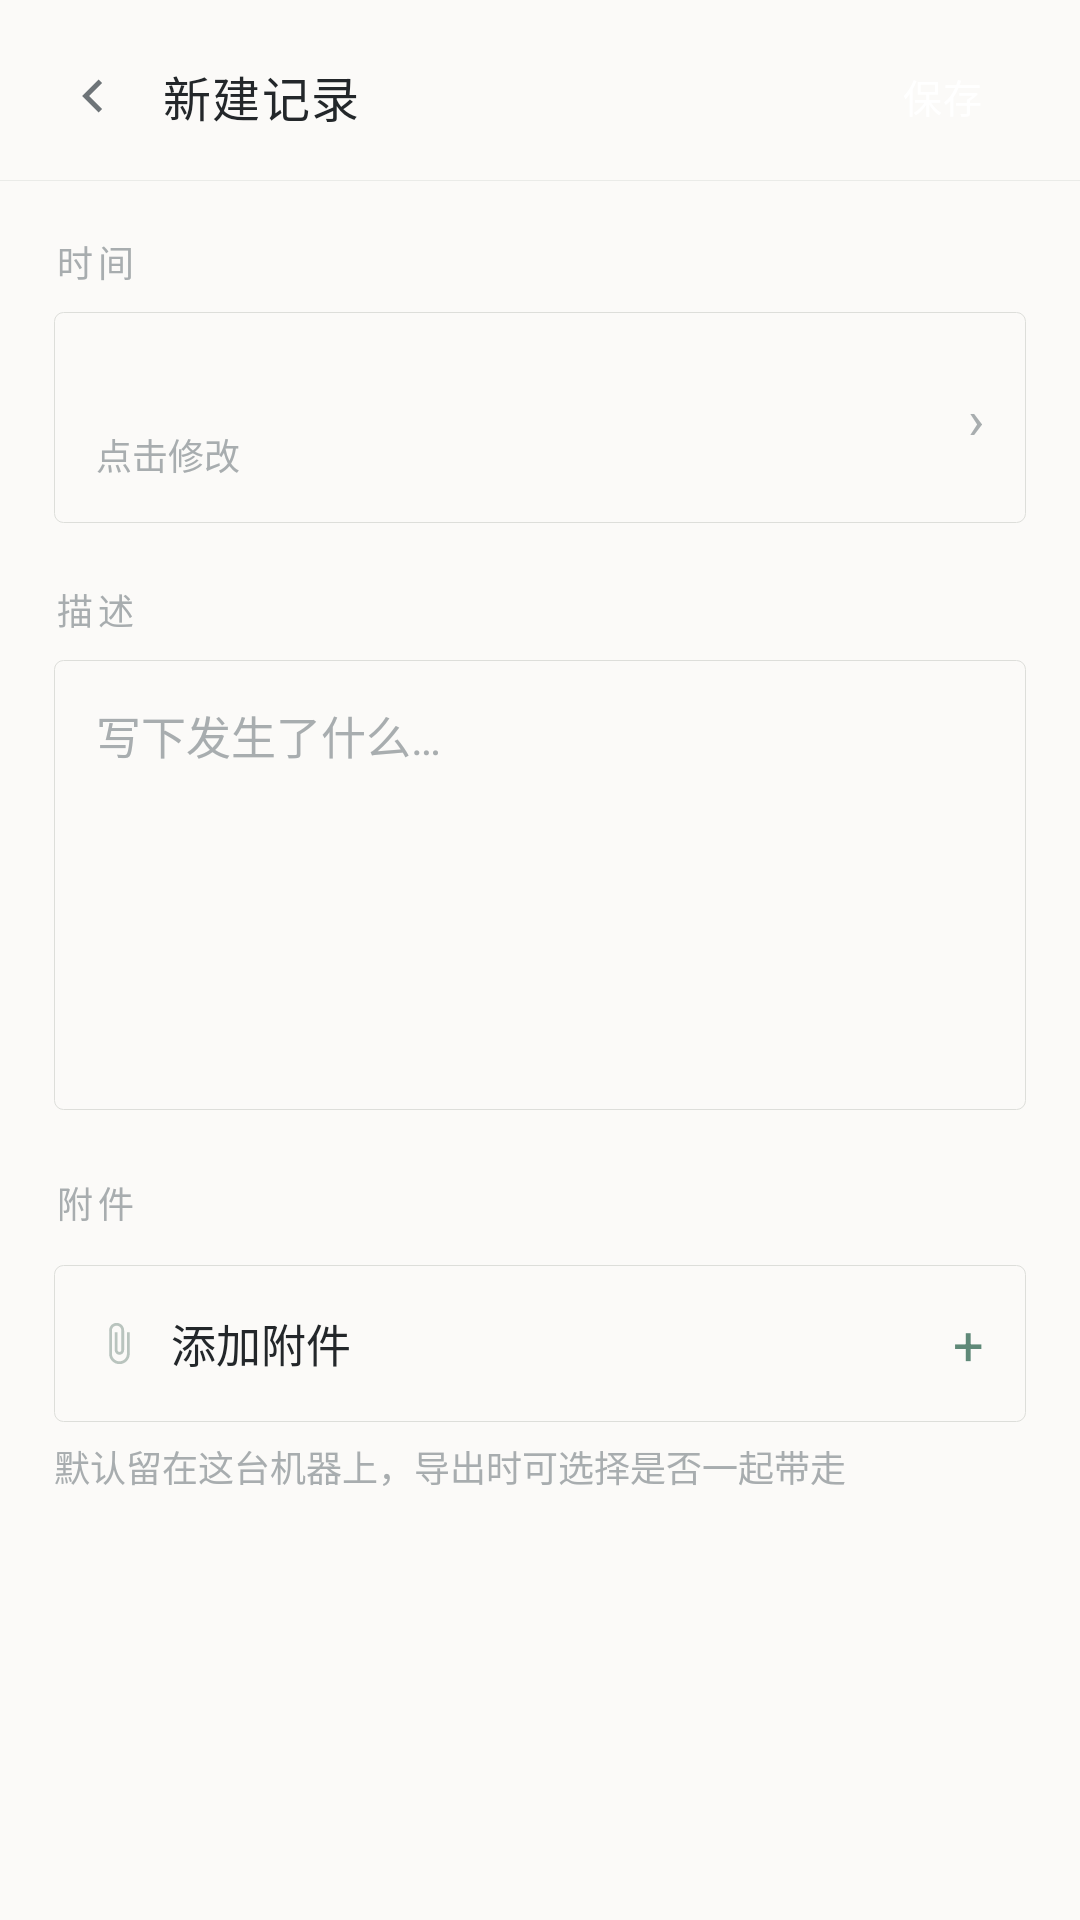

Screen size 1080*1920. Icon name, then its center in pixels as (x=x, y=y):
返回: (x=92, y=96)
